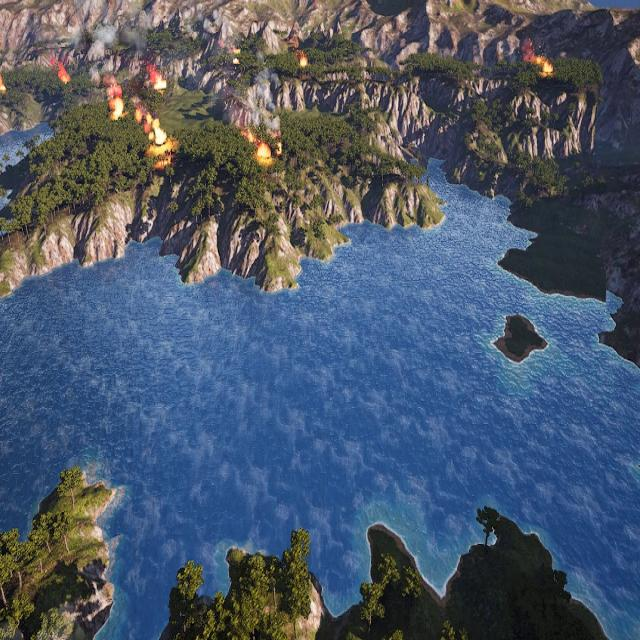fire: (144, 113, 178, 170), (57, 62, 71, 85), (111, 98, 124, 119), (256, 143, 270, 160), (154, 74, 168, 89), (243, 130, 256, 144), (540, 62, 552, 76), (0, 74, 6, 93), (298, 56, 307, 68), (233, 46, 241, 57), (278, 140, 283, 155), (136, 109, 142, 121), (233, 59, 240, 64)
smoke: (74, 16, 148, 90), (250, 66, 283, 134), (498, 39, 532, 66)
